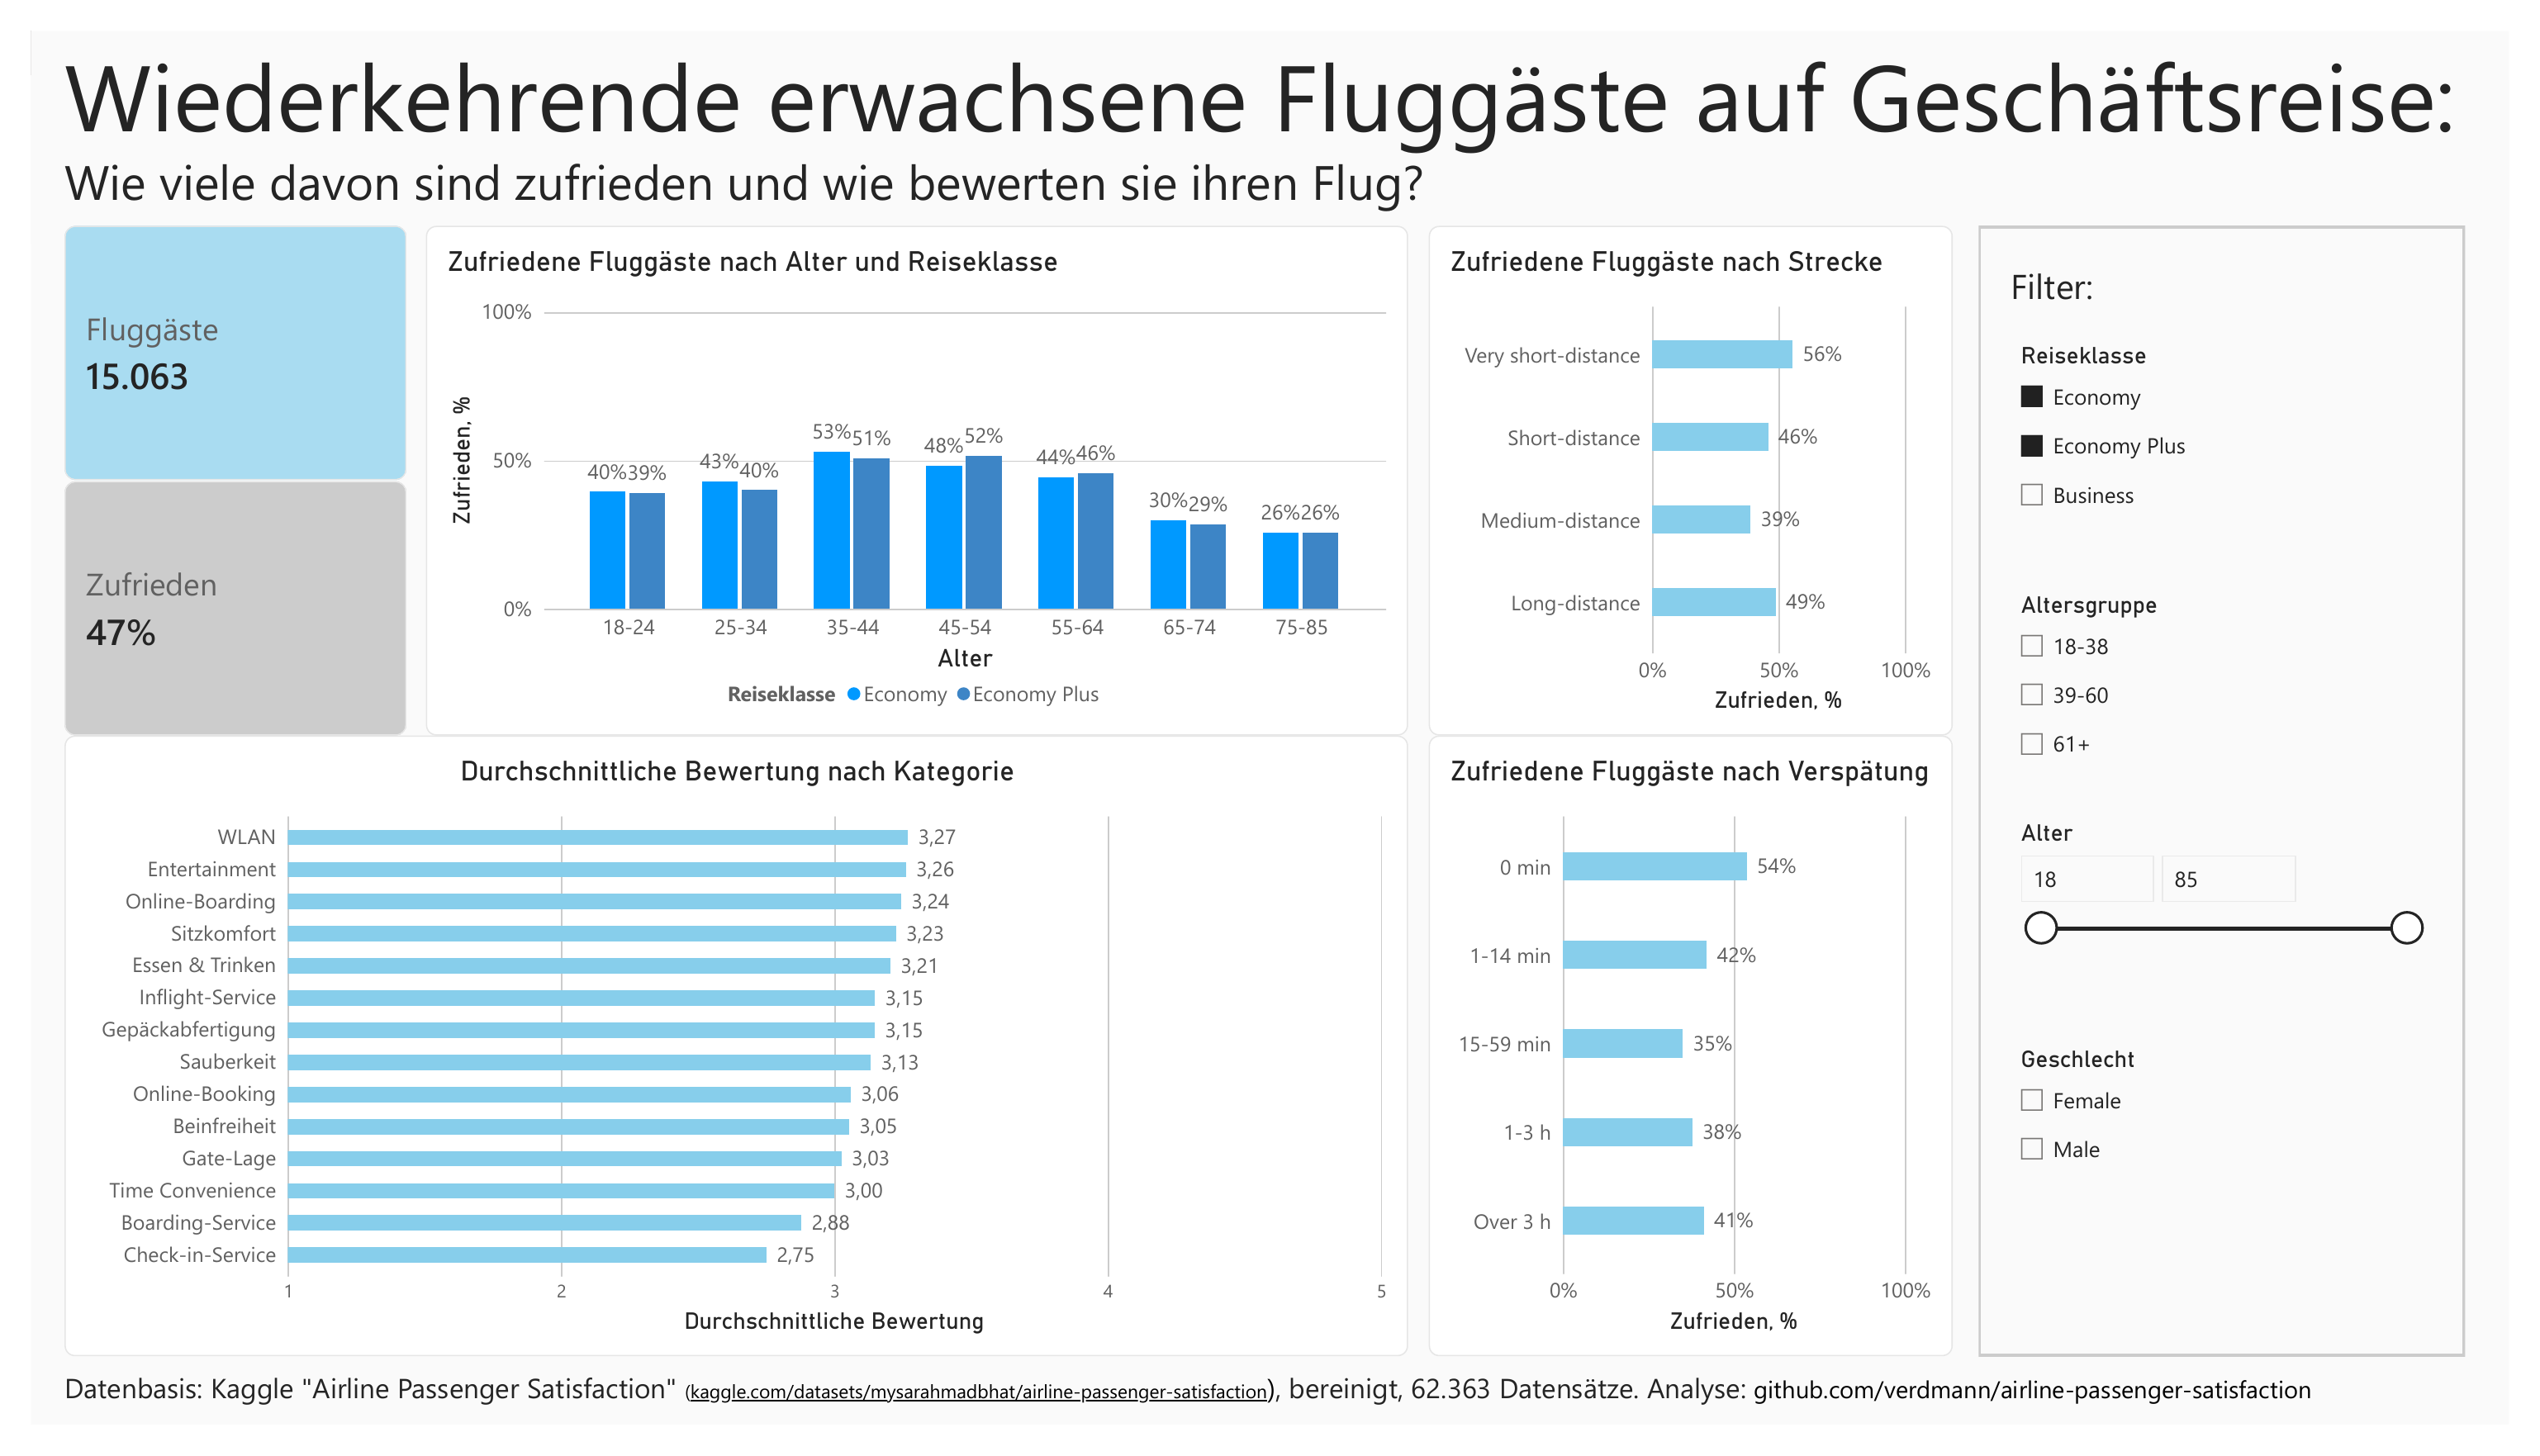

The dashboard page shown, as its layout file describes it:
{"tool":"powerbi","page":{"name":"Fluggastzufriedenheit","canvas":[1920,1080],"ordinal":0},"visuals":[{"type":"shape","box":[1508.6,151.4,377.1,875.7],"z":0},{"type":"cardVisual","fields":{"Data":["df_ret_business.Number of passengers"]},"box":[25.7,151.4,265.7,197.1],"z":1000},{"type":"cardVisual","fields":{"Data":["df_ret_business.Satisfaction rate"]},"box":[25.7,348.6,265.7,197.1],"z":2000},{"type":"clusteredColumnChart","title":"Zufriedene Fluggäste nach Alter und Reiseklasse","fields":{"Category":["df_ret_business.age_group"],"Series":["df_ret_business.class"],"Y":["df_ret_business.Satisfaction rate"]},"box":[305.7,151.4,761.4,394.3],"z":3000},{"type":"clusteredBarChart","title":"Durchschnittliche Bewertung nach Kategorie","fields":{"Category":["ret_business_ratings_long.category"],"Y":["ret_business_ratings_long.Average rating"]},"box":[25.7,545.7,1041.4,481.4],"z":4000},{"type":"barChart","title":"Zufriedene Fluggäste nach Verspätung","fields":{"Category":["df_ret_business.arrival_delay_category"],"Y":["df_ret_business.Satisfaction rate"]},"box":[1082.9,545.7,405.7,481.4],"z":6000},{"type":"barChart","title":"Zufriedene Fluggäste nach Strecke","fields":{"Category":["df_ret_business.distance_category"],"Y":["df_ret_business.Satisfaction rate"]},"box":[1082.9,151.4,405.7,394.3],"z":7000},{"type":"textbox","box":[25.7,0,1878.6,112.9],"z":8000},{"type":"textbox","box":[25.7,91.4,1880,60],"z":9000},{"type":"slicer","fields":{"Values":["df_ret_business.class"]},"box":[1534.3,241.4,322.9,192.9],"z":10000},{"type":"slicer","fields":{"Values":["df_ret_business.age_bracket"]},"box":[1534.3,434.3,322.9,177.1],"z":11000},{"type":"slicer","fields":{"Values":["df_ret_business.age"]},"box":[1534.3,611.4,322.9,188.6],"z":12000},{"type":"textbox","box":[1534.3,178.6,322.9,58.6],"z":13000},{"type":"slicer","fields":{"Values":["df_ret_business.gender"]},"box":[1534.3,785.7,322.9,180],"z":13001},{"type":"textbox","box":[25.7,1037.1,1860,42.9],"z":13002}]}

Visuals, with their boxes on the page's 1920x1080 design canvas (x1, y1, x2, y2). These are canvas units, not pixel positions in the 2540x1456 screenshot, which may show the page scaled, cropped or inside an application window:
shape: bbox=(1509, 151, 1886, 1027)
cardVisual - df_ret_business.Number of passengers: bbox=(26, 151, 291, 348)
cardVisual - df_ret_business.Satisfaction rate: bbox=(26, 349, 291, 546)
"Zufriedene Fluggäste nach Alter und Reiseklasse" clusteredColumnChart: bbox=(306, 151, 1067, 546)
"Durchschnittliche Bewertung nach Kategorie" clusteredBarChart: bbox=(26, 546, 1067, 1027)
"Zufriedene Fluggäste nach Verspätung" barChart: bbox=(1083, 546, 1489, 1027)
"Zufriedene Fluggäste nach Strecke" barChart: bbox=(1083, 151, 1489, 546)
textbox: bbox=(26, 0, 1904, 113)
textbox: bbox=(26, 91, 1906, 151)
slicer - df_ret_business.class: bbox=(1534, 241, 1857, 434)
slicer - df_ret_business.age_bracket: bbox=(1534, 434, 1857, 611)
slicer - df_ret_business.age: bbox=(1534, 611, 1857, 800)
textbox: bbox=(1534, 179, 1857, 237)
slicer - df_ret_business.gender: bbox=(1534, 786, 1857, 966)
textbox: bbox=(26, 1037, 1886, 1080)
